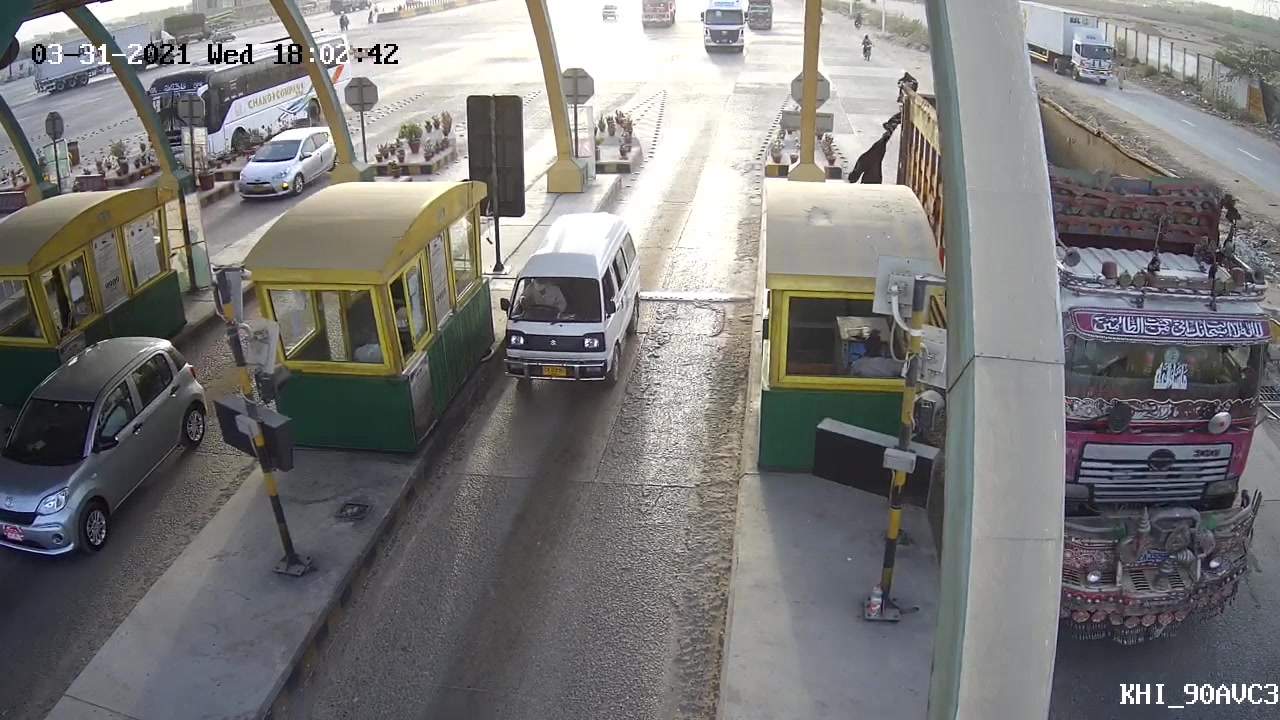F1: (496, 214, 651, 395)
